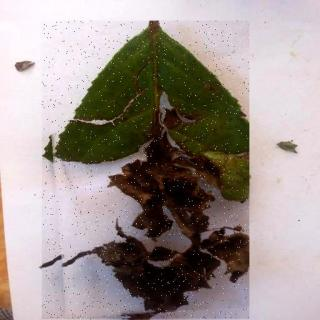Brown Blight: (43, 22, 250, 320)
